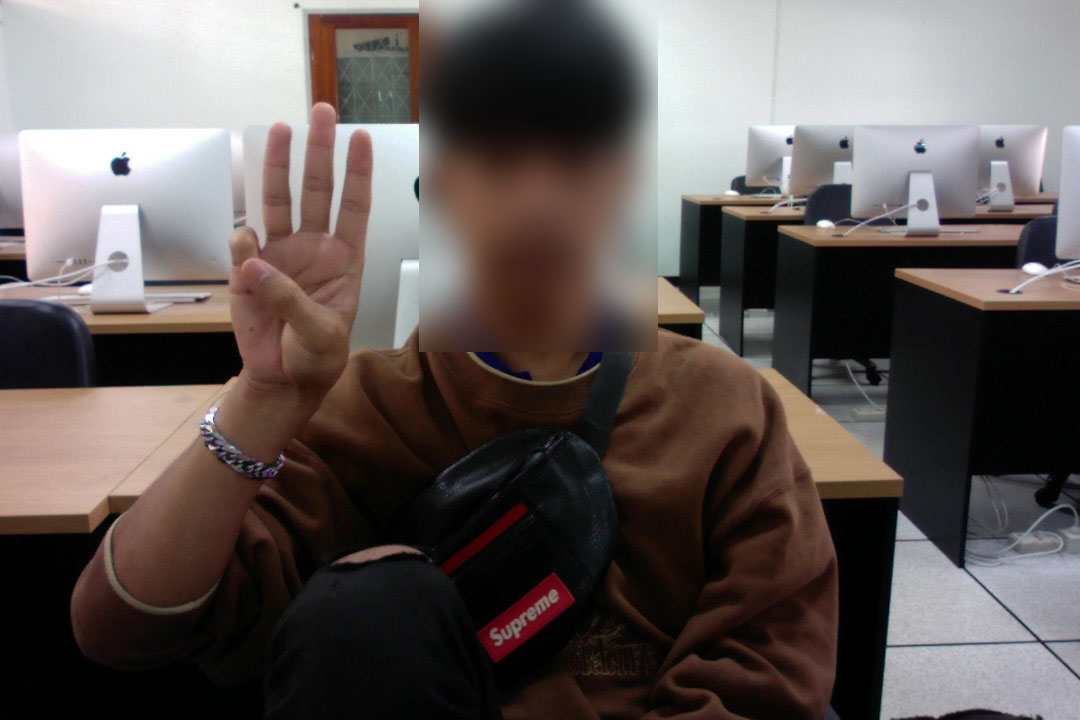wor: (219, 98, 378, 401)
